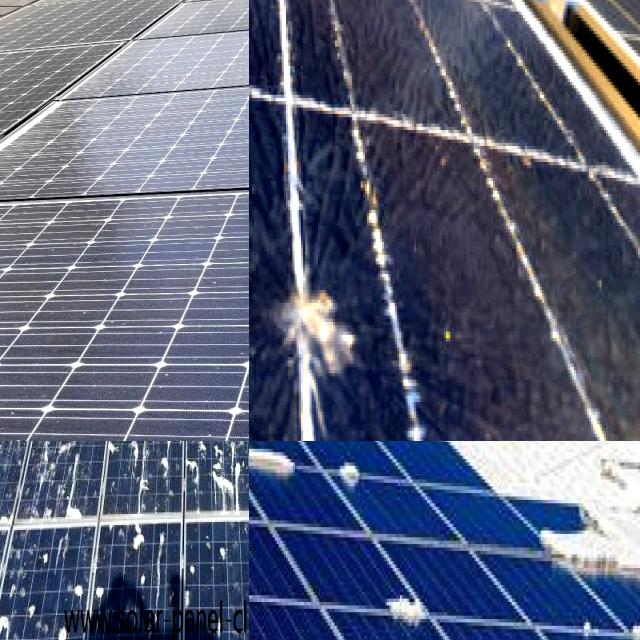bird: (201, 441, 249, 501), (62, 444, 96, 516), (197, 441, 241, 482), (0, 441, 23, 515), (0, 558, 22, 635), (0, 441, 40, 482), (134, 441, 172, 481), (214, 526, 239, 578), (58, 441, 97, 473), (126, 441, 153, 484), (184, 554, 214, 586), (51, 608, 80, 640), (95, 566, 116, 608), (33, 546, 58, 580), (125, 522, 148, 556), (0, 441, 16, 488), (159, 441, 176, 484), (0, 609, 21, 640)
dust: (27, 349, 222, 441), (0, 63, 93, 174), (86, 0, 209, 24)
hotspot: (252, 270, 384, 414)
panel: (456, 441, 600, 508), (540, 503, 640, 579), (249, 441, 440, 479), (382, 576, 435, 636), (249, 441, 302, 493), (335, 441, 373, 511)
